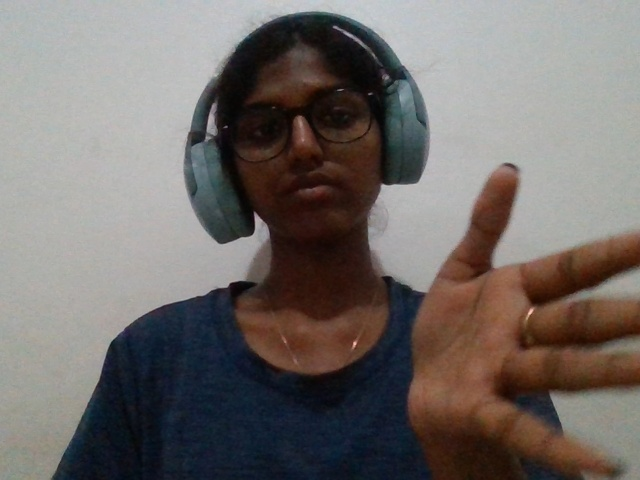Bye: (353, 144, 629, 480)
